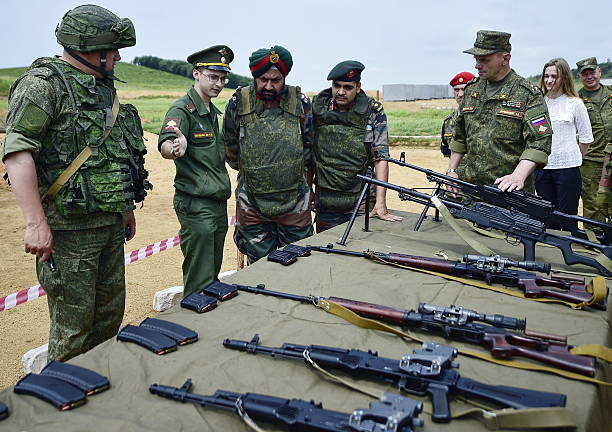rifle: (232, 282, 600, 376), (218, 333, 571, 427), (346, 164, 610, 286), (305, 243, 608, 310), (145, 378, 428, 432)
